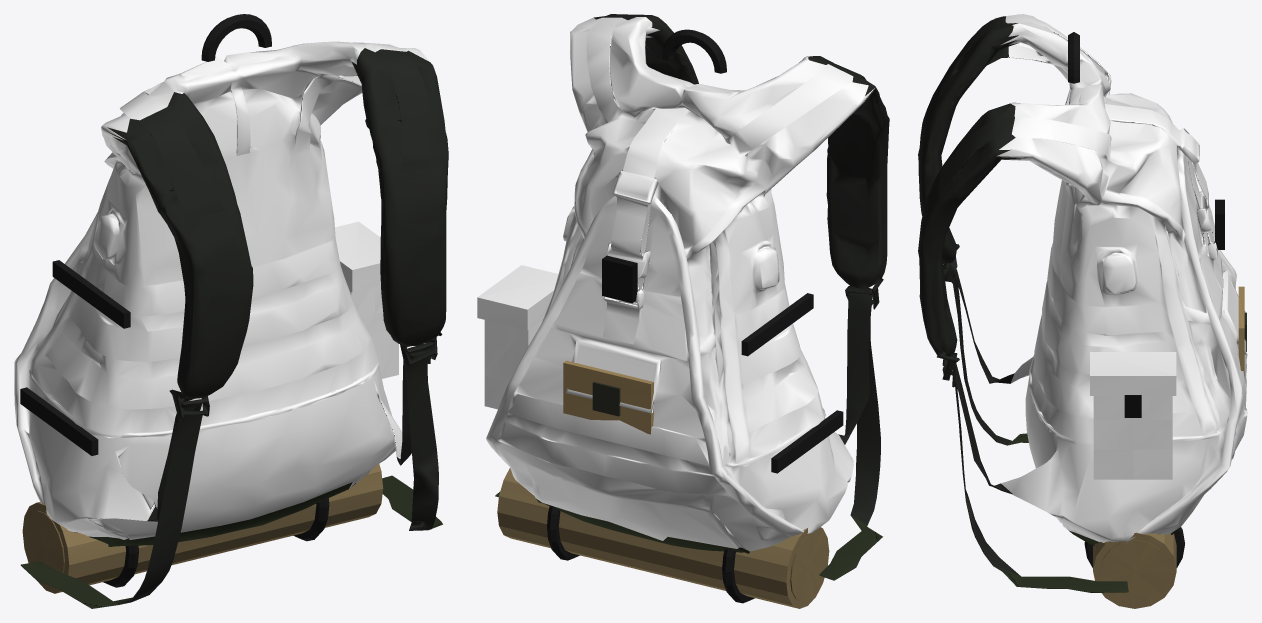
File: backpack1.glb
3 renders of one model, left to right at view 1: azimuth 30°, elevation 25°; view 2: azimuth 150°, elevation 25°; view 3: azimuth 270°, elevation 25°, orthographic. The views are drawn at different scales.
Visible parts, largest first — view 1: fabric, detail; view 2: fabric, detail; view 3: fabric, detail.
Part boxes in pixels (left/top/right/bottom): fabric: left=14, top=41, right=429, bottom=539; detail: left=20, top=14, right=448, bottom=608; fabric: left=477, top=17, right=874, bottom=551; detail: left=495, top=14, right=889, bottom=608; fabric: left=997, top=14, right=1247, bottom=542; detail: left=918, top=16, right=1246, bottom=608.
Size of the model in its own units: 0.7877 by 1.15 by 0.6686.
